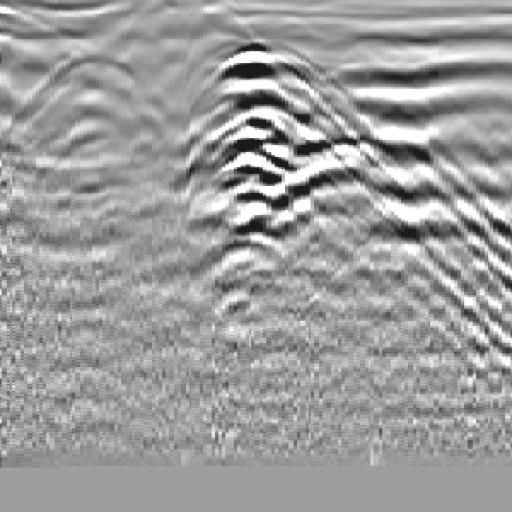metalic: (255, 121, 512, 377), (204, 34, 331, 308)
